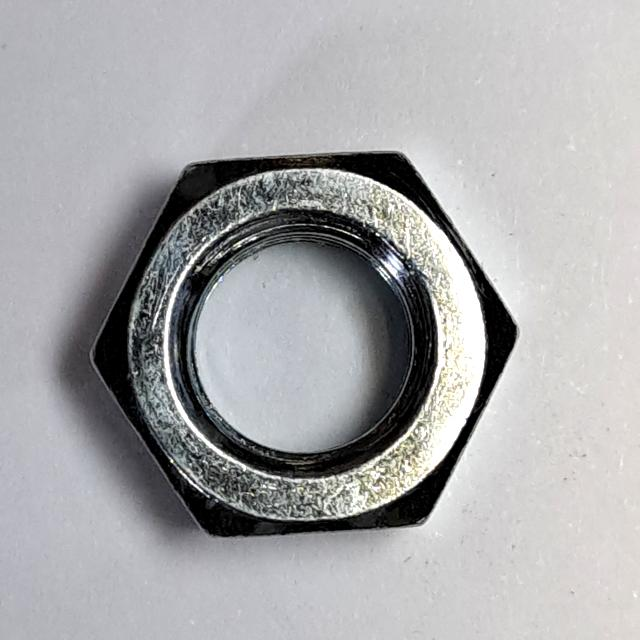Excellent: (81, 141, 530, 548)
